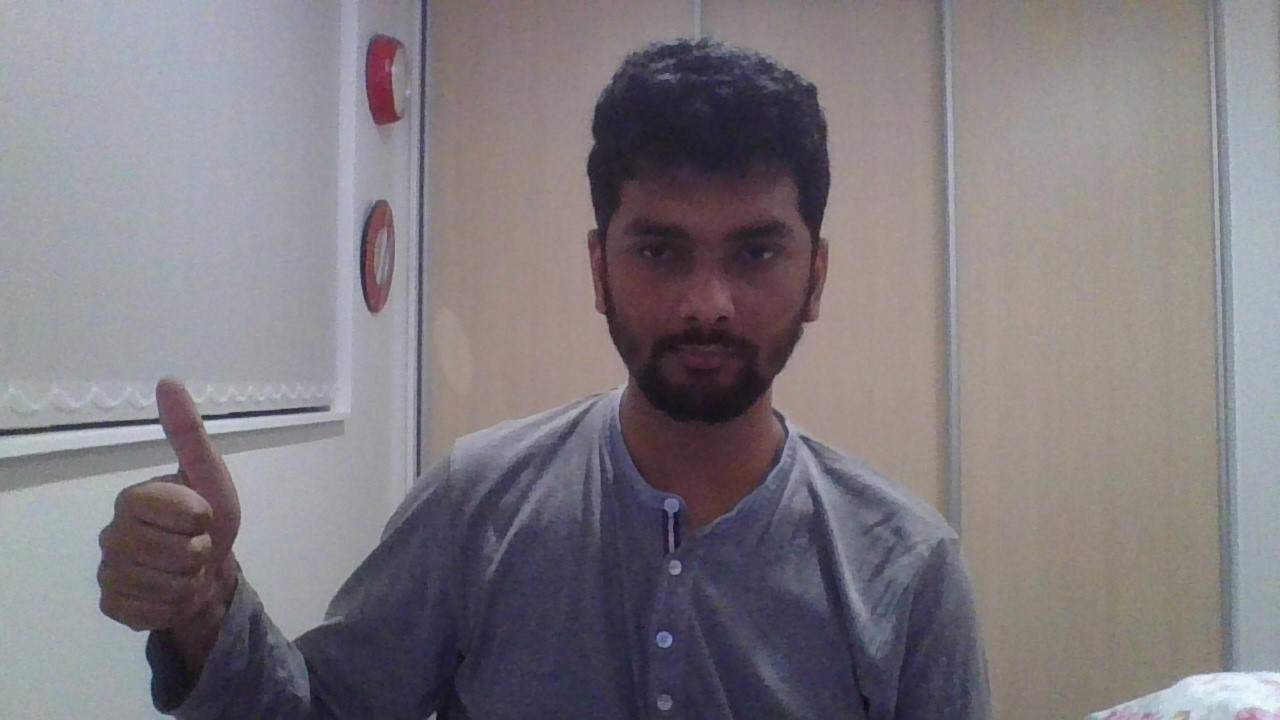good: (96, 377, 241, 633)
